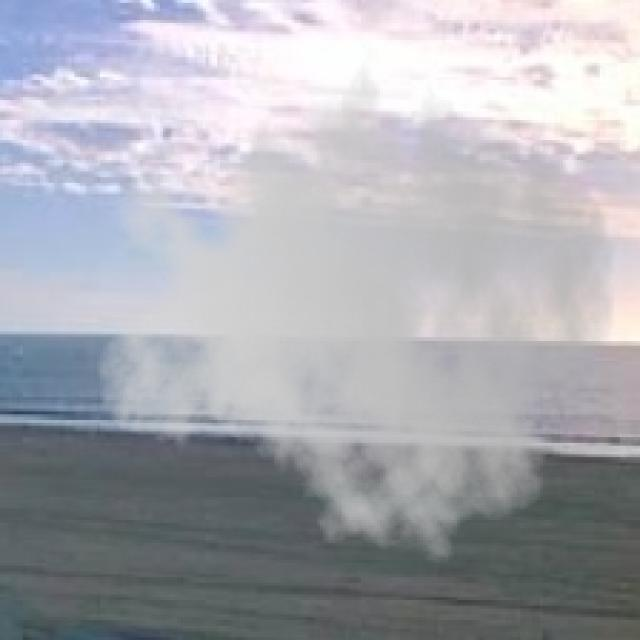Smoke: (94, 40, 617, 577)
